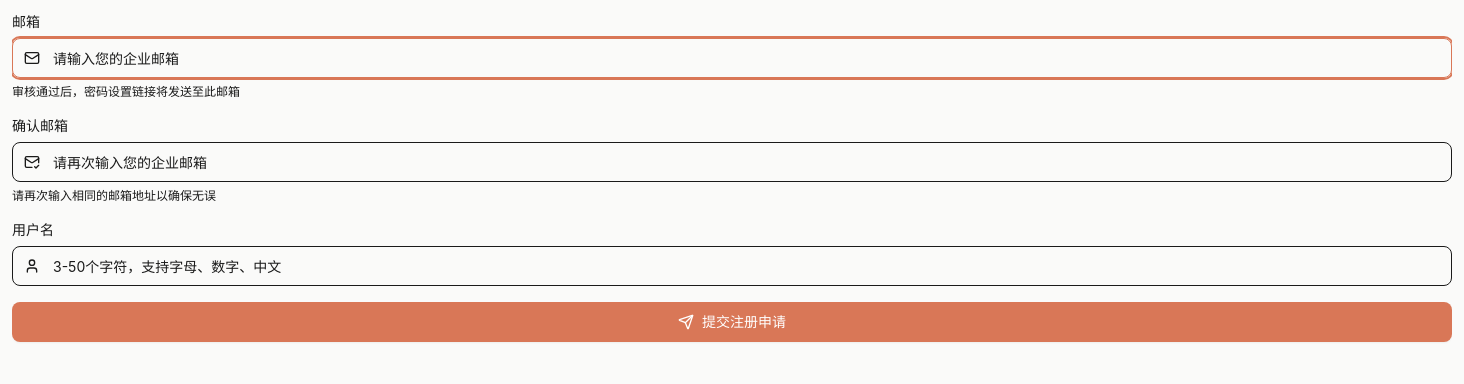
RegisterApplyForm 组件 › 空用户名提交 - 显示错误
Type "test@example.com" into the field with placeholder "请输入您的企业邮箱" at coordinates (732, 58), box [12,38,1452,78]
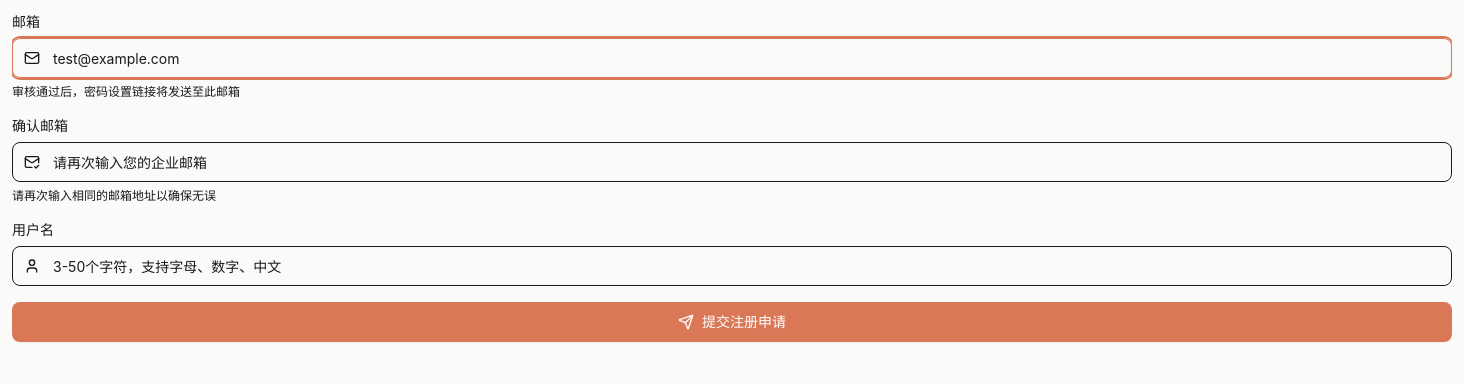
Type "test@example.com" into the field with placeholder "请再次输入您的企业邮箱" at coordinates (732, 162), box [12,142,1452,182]
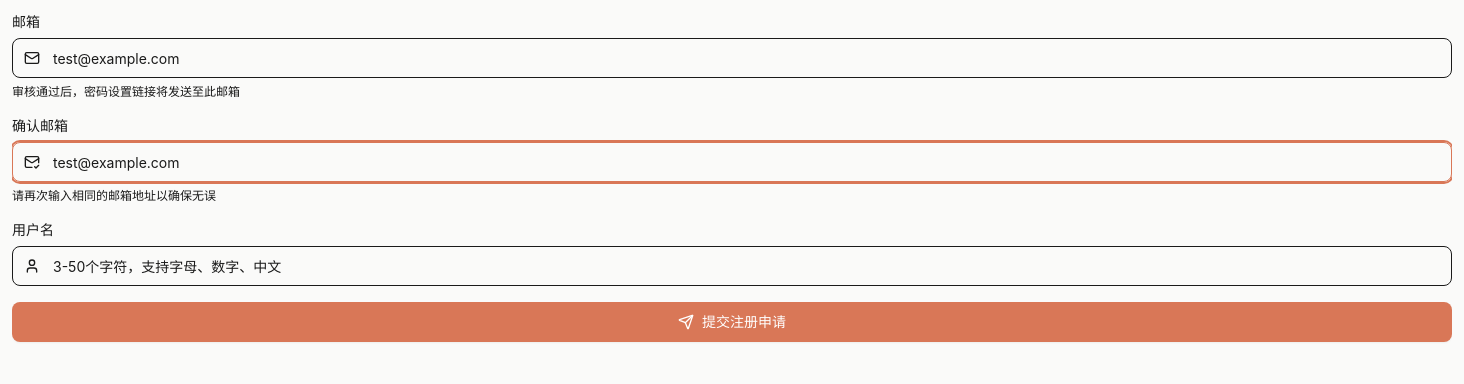
Click the button "提交注册申请" at coordinates (732, 322), box [12,302,1452,342]
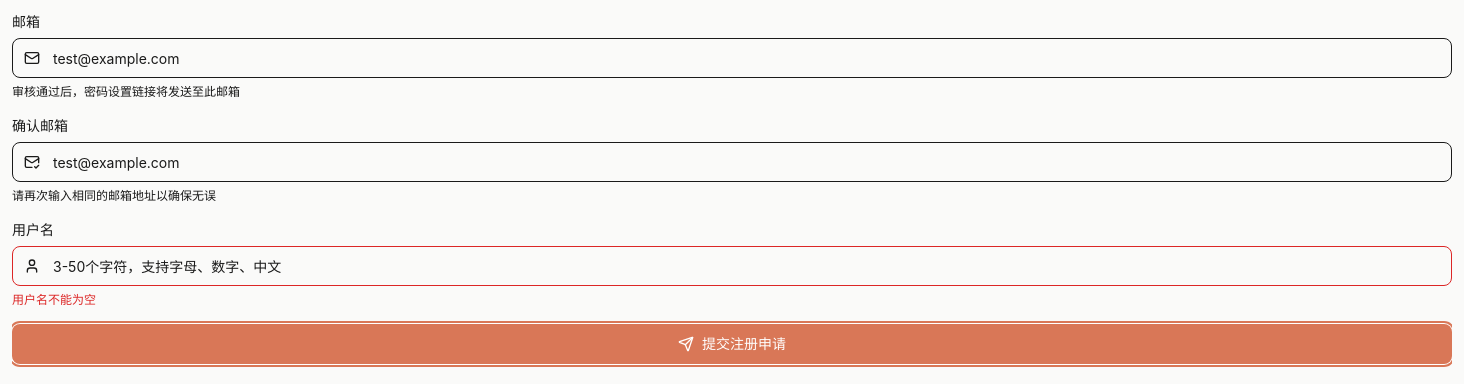
Expected: the text "用户名不能为空" is shown, [12,292,96,307]
